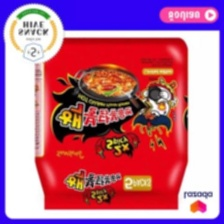snack: (27, 31, 197, 215)
